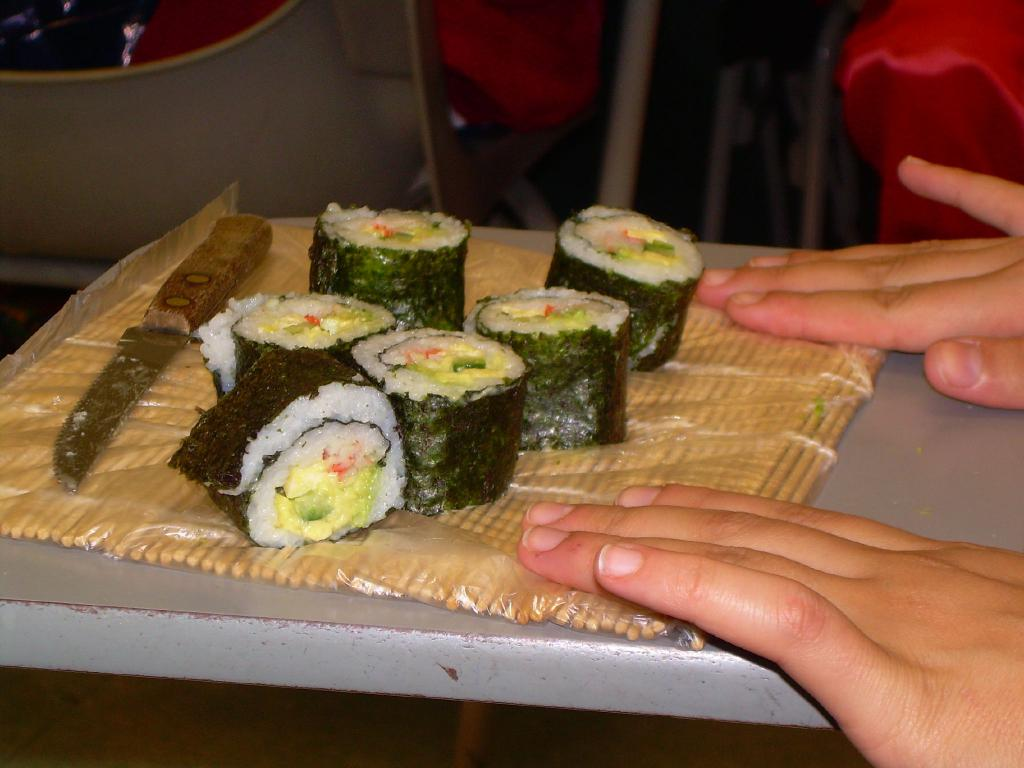sushi: (173, 203, 705, 556), (163, 340, 408, 552)
